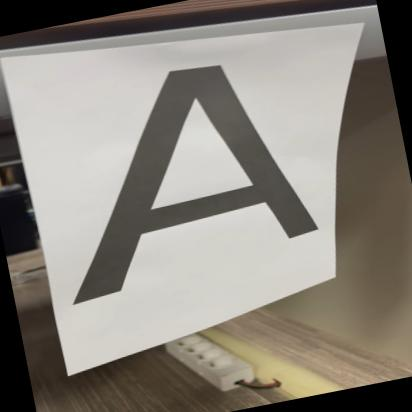seat: (33, 30, 334, 308)
